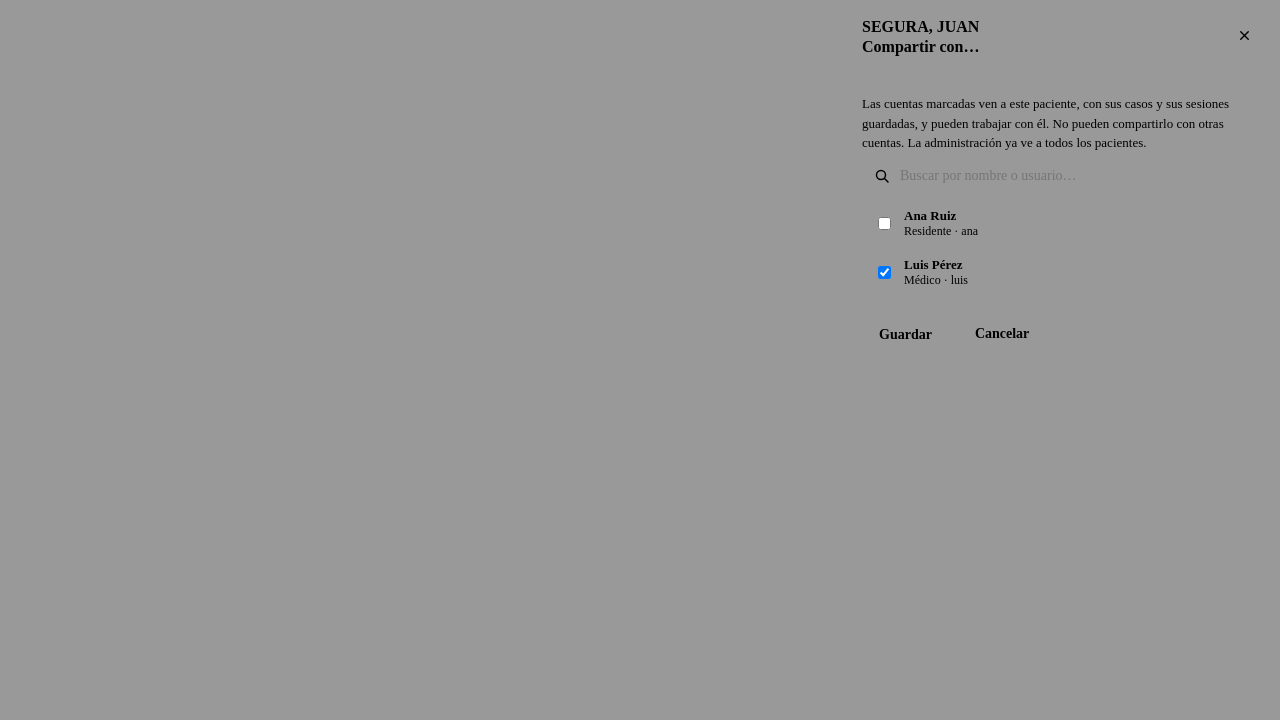
Test: ShareSheet › la búsqueda filtra por nombre o usuario, sin distinguir mayúsculas ni tildes
The image size is (1280, 720).
Expected: the checkbox labelled "Ana Ruiz Residente · ana" is shown, top-left (878, 216), bottom-right (891, 230)
In the field named "Buscar cuenta": [1072, 176] box top-left (898, 166), bottom-right (1246, 184), type "PEREZ"
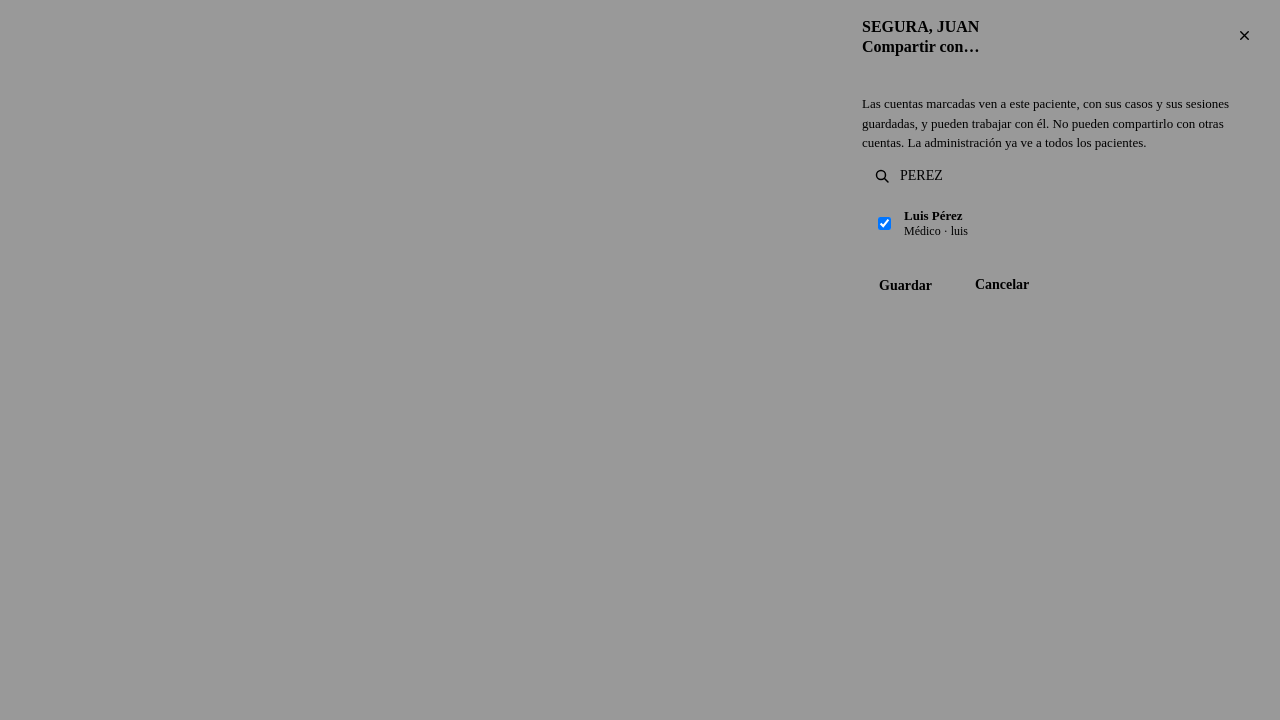
Expected: the checkbox labelled "Luis Pérez Médico · luis" is shown, top-left (878, 216), bottom-right (891, 230)
Now the text "Ana Ruiz" is gone
Replace the text in the field named "Buscar cuenta" with "zzz": [1072, 176] box top-left (898, 166), bottom-right (1246, 184)
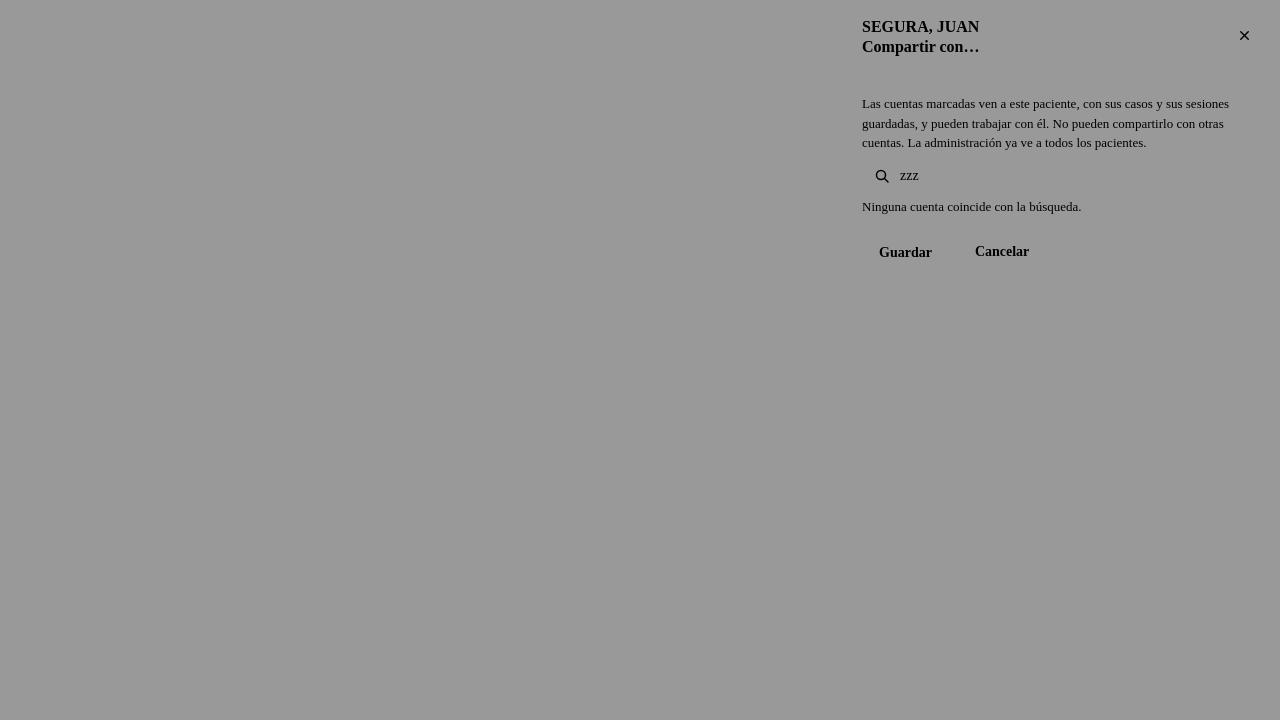
Now the text "Ninguna cuenta coincide con la búsqueda." is shown, box top-left (862, 198), bottom-right (1082, 214)
